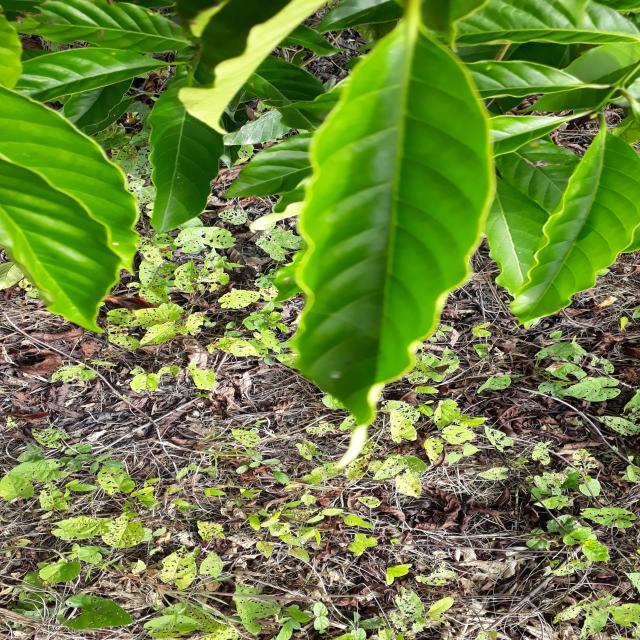Sanas: (283, 0, 496, 431)
